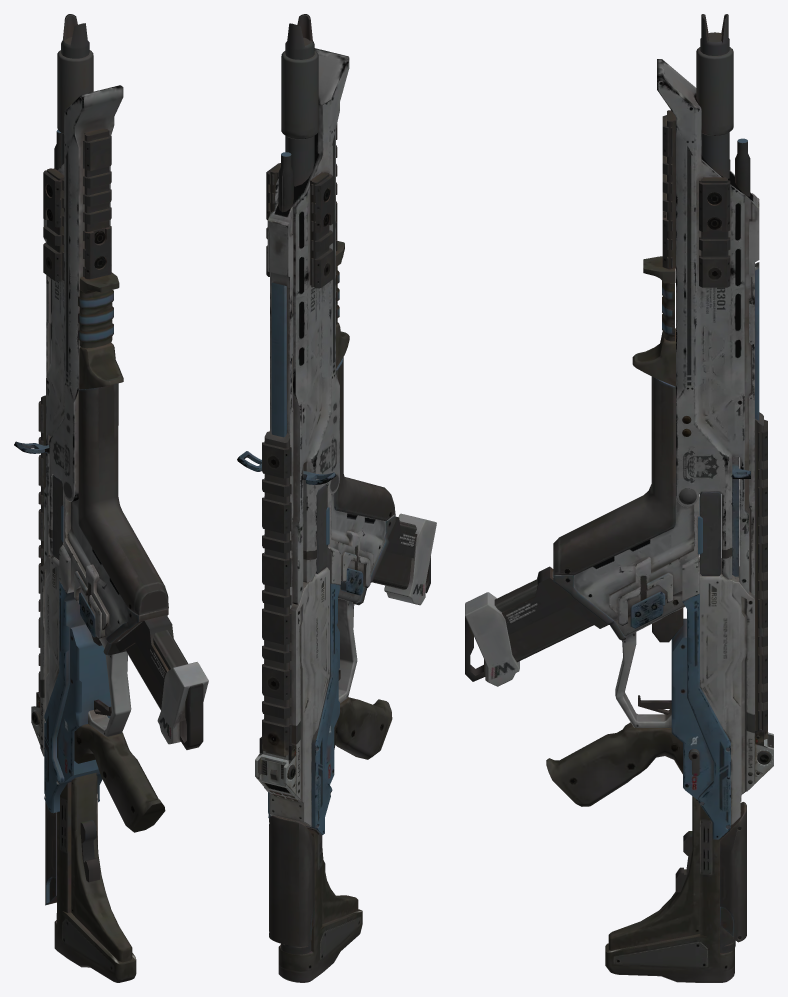
File: apex_r301.glb
3 renders of one model, left to right at view 1: azimuth 30°, elevation 25°; view 2: azimuth 150°, elevation 25°; view 3: azimuth 270°, elevation 25°, orthographic. The views are drawn at different scales.
Parts seen in each view (by area): view 1: body_0_LOD0_r301_base_main, r101_magazine_0_LOD0_r301_base_main; view 2: body_0_LOD0_r301_base_main, r101_magazine_0_LOD0_r301_base_main, sight_front_0_LOD0_r301_base_main; view 3: body_0_LOD0_r301_base_main, r101_magazine_0_LOD0_r301_base_main, sight_front_0_LOD0_r301_base_main.
Boxes of the visible parts, box(x1,y1,x2,y2) form: body_0_LOD0_r301_base_main: box(14, 14, 168, 982); r101_magazine_0_LOD0_r301_base_main: box(115, 611, 208, 749); body_0_LOD0_r301_base_main: box(237, 14, 395, 982); r101_magazine_0_LOD0_r301_base_main: box(372, 513, 436, 605); sight_front_0_LOD0_r301_base_main: box(255, 737, 295, 794); body_0_LOD0_r301_base_main: box(546, 14, 767, 982); r101_magazine_0_LOD0_r301_base_main: box(465, 555, 682, 686); sight_front_0_LOD0_r301_base_main: box(755, 729, 773, 783).
Bounding box in the file's own units: 0.0878 × 0.8774 × 0.2557.
1 material, 1 textured.
